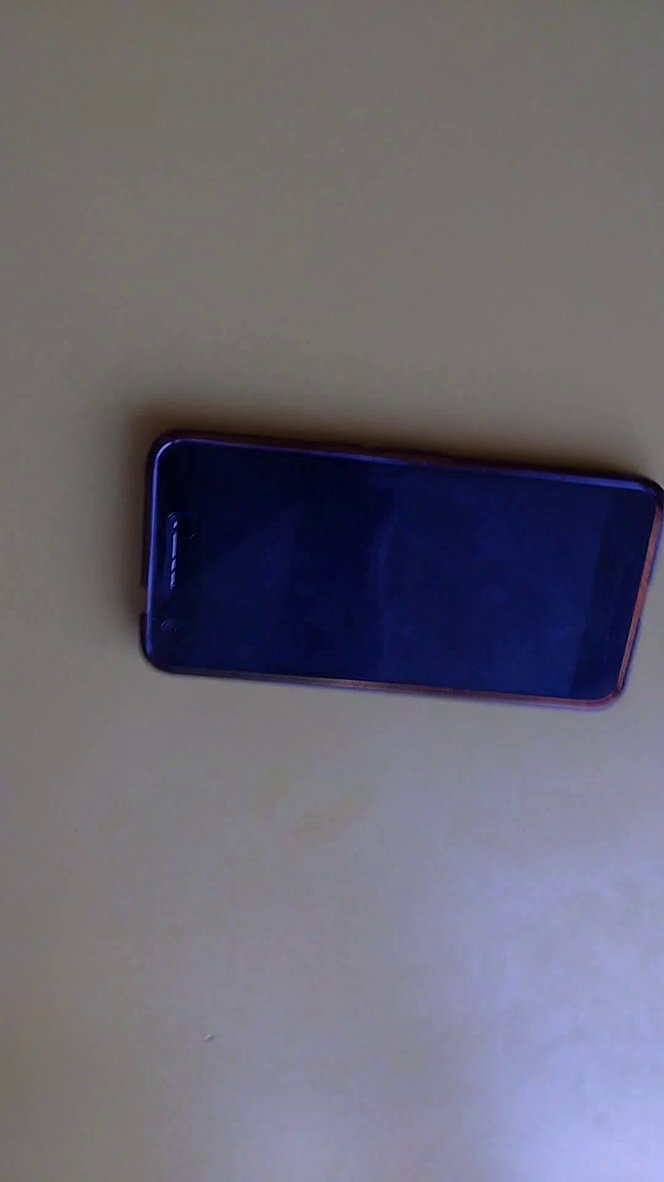phone: (108, 400, 664, 745)
